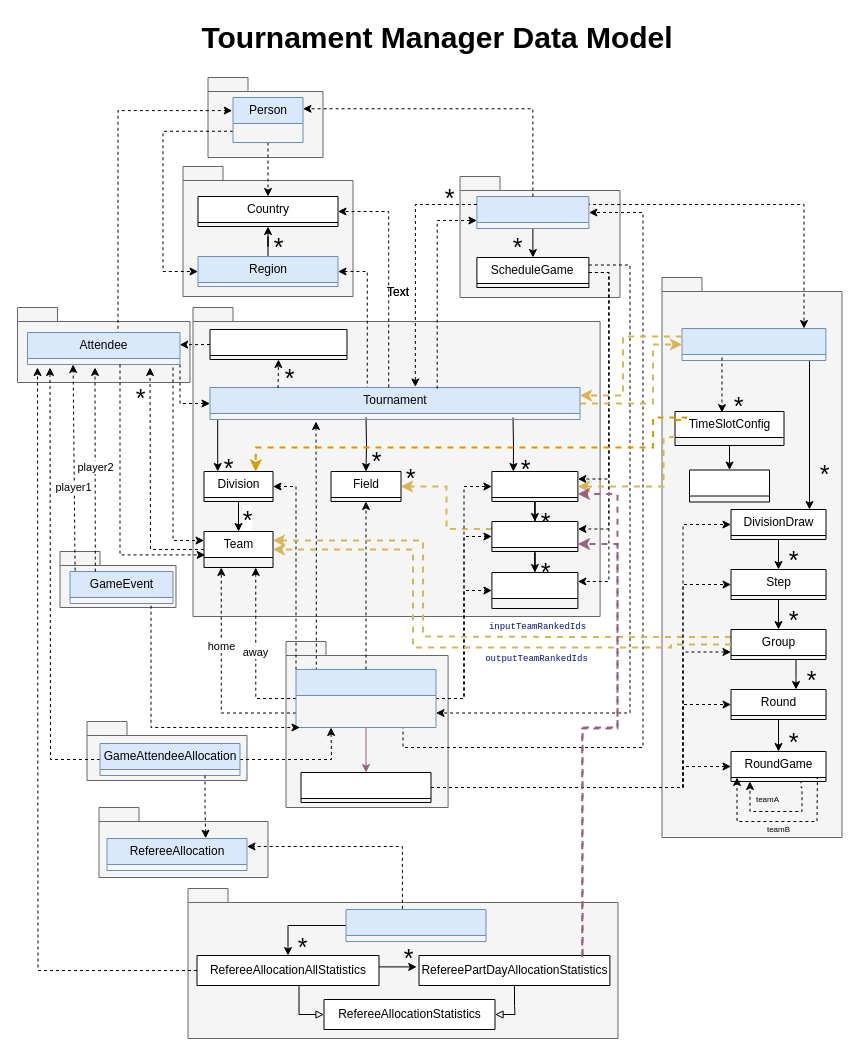
Some shapes in this 860 by 1056 pixel diagram are drawn without their labels. Here are the shapes that lost their labels. From the top down, the box of each, then its label:
(476, 196, 589, 228): Schedule
(209, 328, 347, 360): TournamentManager
(681, 328, 826, 360): Draw
(491, 470, 578, 502): Day
(688, 469, 770, 502): SlotType
(491, 520, 578, 552): PartDay
(491, 572, 578, 608): TimeSlot
(295, 668, 436, 728): Game
(300, 772, 431, 802): ScheduleInfo
(345, 908, 486, 942): AllocationStatistics
